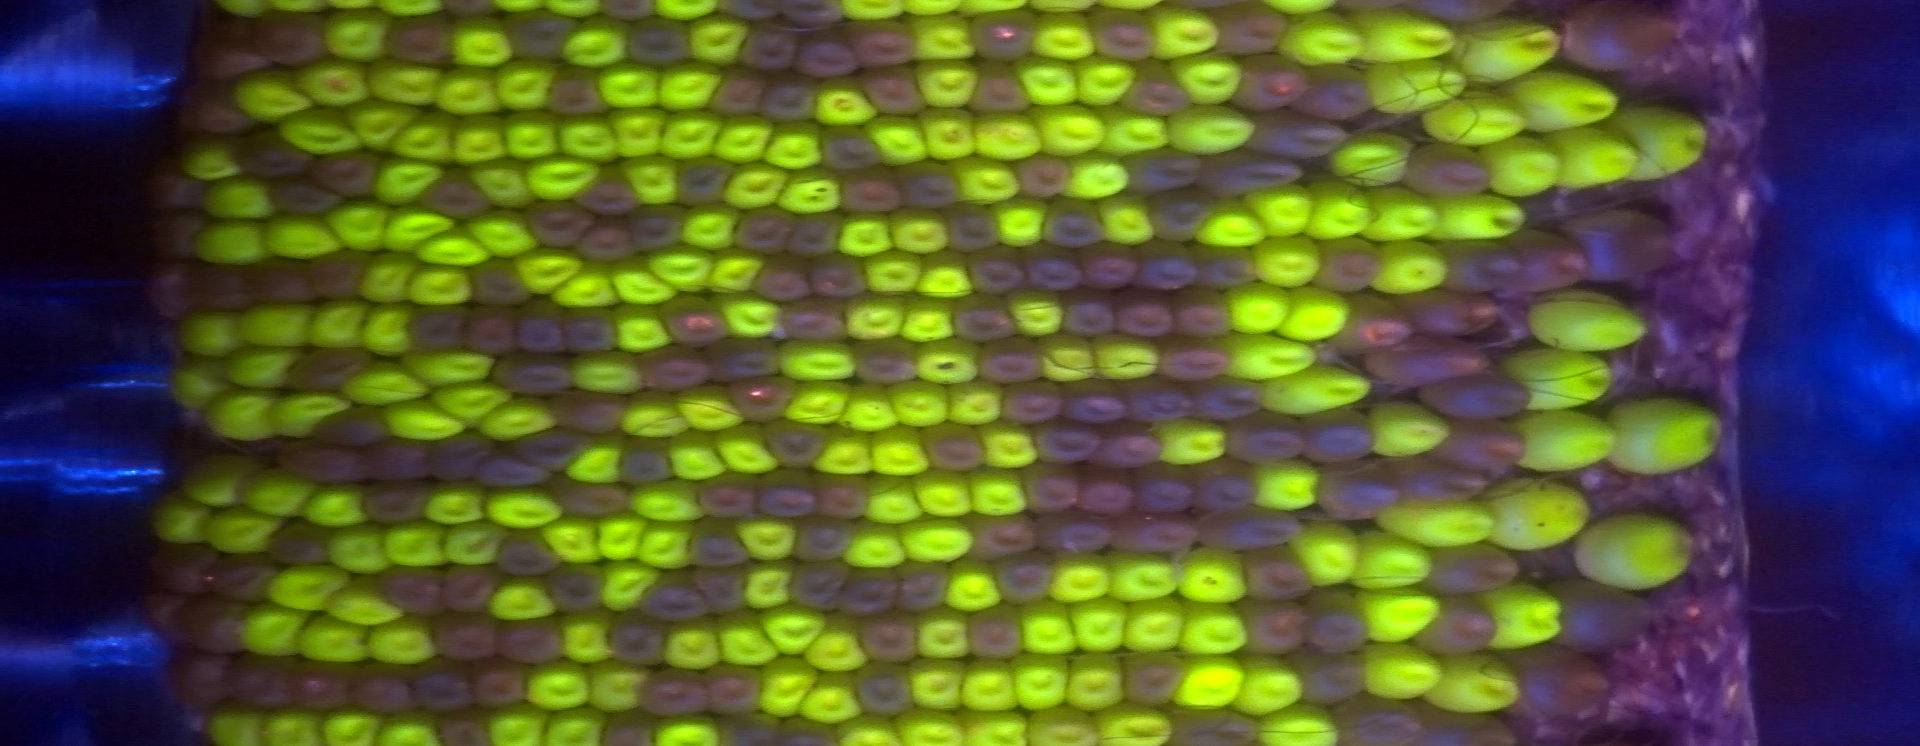fluorescent: (1564, 505, 1703, 599), (1602, 390, 1730, 483), (1523, 282, 1656, 363), (1476, 475, 1598, 559), (1451, 10, 1569, 89), (1501, 343, 1622, 420), (1506, 64, 1631, 138), (1611, 102, 1716, 190), (1510, 402, 1626, 479), (1417, 646, 1529, 719), (1476, 573, 1572, 657), (1419, 78, 1531, 151), (1543, 122, 1647, 200), (1375, 491, 1506, 552), (1255, 360, 1382, 423), (1348, 4, 1462, 73), (1365, 48, 1473, 121), (1422, 186, 1536, 251), (1162, 97, 1266, 167), (1349, 579, 1446, 653), (1342, 527, 1444, 597), (1278, 5, 1378, 76), (1476, 135, 1570, 208), (1220, 650, 1315, 723), (1349, 639, 1452, 706), (1283, 519, 1370, 597), (225, 62, 324, 129), (1364, 398, 1460, 465), (1325, 127, 1420, 194), (1296, 174, 1380, 249), (1169, 592, 1258, 663), (1218, 328, 1329, 385), (287, 51, 386, 114), (1354, 183, 1445, 250), (1166, 45, 1253, 115), (1138, 2, 1231, 67), (1367, 234, 1460, 299), (1265, 282, 1358, 347), (1239, 451, 1327, 518), (553, 10, 644, 75), (182, 213, 280, 273), (1171, 541, 1256, 610), (360, 54, 456, 115), (227, 597, 312, 664), (744, 652, 825, 723), (174, 451, 264, 513), (257, 559, 358, 615), (164, 347, 245, 416), (336, 356, 435, 413), (203, 383, 288, 450), (271, 107, 370, 163), (316, 2, 400, 69), (230, 296, 323, 356), (1022, 100, 1116, 160), (1060, 590, 1139, 661), (1091, 100, 1177, 165), (709, 416, 792, 483), (901, 4, 984, 70), (1164, 650, 1253, 713), (1240, 176, 1322, 243), (771, 332, 863, 391), (522, 148, 610, 209), (708, 608, 786, 676), (1118, 593, 1196, 661), (320, 571, 409, 631), (1053, 147, 1139, 209), (398, 342, 504, 392), (577, 655, 658, 722), (757, 598, 838, 664), (358, 615, 448, 674), (1247, 229, 1329, 294), (340, 96, 429, 156), (291, 611, 376, 674), (382, 102, 462, 168), (258, 209, 351, 266), (705, 285, 792, 345), (1141, 414, 1232, 472), (613, 382, 697, 445), (231, 465, 320, 524), (624, 474, 716, 530), (463, 151, 542, 216), (669, 377, 749, 441), (1063, 51, 1144, 115), (216, 341, 309, 396), (480, 570, 567, 628), (964, 107, 1051, 165), (911, 102, 988, 168), (651, 100, 729, 167), (1002, 649, 1079, 715), (680, 9, 758, 73), (894, 512, 982, 570), (169, 304, 253, 364), (944, 152, 1029, 212), (653, 55, 732, 119), (200, 503, 291, 559), (1220, 278, 1300, 341), (1038, 546, 1119, 609), (478, 485, 576, 537), (478, 392, 564, 450), (833, 514, 916, 575), (369, 149, 452, 209), (545, 251, 624, 314), (563, 344, 651, 401), (460, 205, 545, 263), (902, 653, 975, 722), (429, 379, 520, 432), (637, 241, 722, 299), (425, 62, 511, 120), (321, 194, 397, 258), (520, 657, 602, 717), (1098, 548, 1180, 608), (863, 421, 940, 485), (600, 102, 677, 165), (879, 377, 962, 436), (910, 53, 988, 115), (1022, 5, 1102, 66), (260, 390, 359, 439), (716, 156, 797, 216), (1007, 53, 1087, 113), (953, 653, 1029, 717), (508, 243, 594, 299), (1189, 197, 1275, 254), (996, 284, 1074, 345), (380, 396, 470, 448), (793, 668, 869, 730), (731, 508, 807, 571), (409, 224, 501, 276), (377, 202, 463, 257), (807, 72, 884, 134), (800, 609, 869, 676), (1060, 647, 1131, 713), (613, 148, 686, 213), (144, 488, 218, 551), (491, 54, 564, 118), (656, 614, 731, 676), (831, 375, 906, 437), (1084, 330, 1168, 385), (860, 111, 936, 173), (444, 11, 520, 72), (771, 162, 849, 222), (707, 107, 784, 167), (197, 171, 283, 225), (302, 294, 376, 356), (377, 517, 457, 575), (1085, 698, 1180, 746), (560, 428, 636, 488), (906, 465, 982, 526), (351, 249, 427, 309), (553, 604, 622, 670), (659, 425, 731, 488), (605, 296, 677, 359), (807, 419, 879, 481), (1090, 190, 1164, 250), (673, 197, 749, 256), (880, 202, 956, 261), (1013, 597, 1081, 661), (606, 254, 683, 311), (400, 258, 482, 312), (781, 376, 860, 432), (171, 127, 250, 184), (1031, 330, 1104, 390), (496, 107, 571, 165), (594, 58, 669, 116), (318, 523, 398, 578), (438, 517, 514, 575), (829, 206, 905, 263), (939, 554, 1008, 617), (759, 113, 831, 173), (442, 107, 514, 167), (984, 194, 1057, 254), (857, 470, 931, 529), (738, 554, 807, 616), (838, 287, 913, 343), (1253, 699, 1344, 746), (629, 518, 702, 577), (700, 243, 774, 300), (909, 601, 975, 665), (1018, 701, 1109, 746), (940, 375, 1013, 432), (551, 111, 624, 167), (948, 702, 1040, 746), (596, 556, 665, 615), (911, 246, 981, 304), (359, 296, 421, 360), (911, 333, 984, 387), (419, 477, 493, 529), (857, 246, 929, 300), (198, 695, 273, 746), (536, 514, 606, 568), (298, 484, 375, 532), (891, 296, 961, 349), (591, 510, 656, 565), (889, 704, 975, 746), (252, 702, 329, 746), (484, 698, 553, 746), (536, 703, 611, 746), (369, 706, 446, 746), (313, 703, 384, 746), (828, 710, 909, 746), (648, 710, 724, 746)
nonfluorescent: (1538, 573, 1662, 664), (1558, 1, 1686, 80), (1566, 203, 1679, 287), (1504, 643, 1619, 722), (1364, 331, 1500, 392), (1420, 367, 1542, 432), (1238, 105, 1359, 167), (1380, 448, 1494, 512), (1411, 539, 1524, 601), (1408, 590, 1506, 661), (1329, 285, 1423, 359), (1506, 224, 1594, 303), (1282, 643, 1378, 715), (1430, 410, 1533, 477), (1401, 137, 1501, 205), (1434, 233, 1531, 303), (1313, 456, 1409, 526), (1195, 145, 1313, 201), (269, 432, 380, 492), (1292, 581, 1378, 658), (1229, 592, 1316, 668), (170, 76, 266, 143), (158, 641, 242, 717), (216, 648, 309, 717), (1226, 51, 1319, 120), (1114, 138, 1212, 203), (1217, 407, 1316, 470), (1294, 405, 1387, 473), (1199, 500, 1309, 556), (140, 534, 235, 599), (278, 338, 383, 397), (498, 5, 595, 69), (249, 6, 337, 76), (180, 27, 278, 89), (1102, 505, 1206, 563), (1081, 1, 1168, 71), (1236, 543, 1322, 612), (629, 661, 722, 726), (490, 609, 578, 676), (1296, 60, 1382, 127), (229, 125, 324, 186), (964, 2, 1046, 73), (339, 657, 429, 722), (632, 563, 721, 628), (1185, 452, 1270, 521), (1406, 285, 1507, 342), (1116, 53, 1199, 121), (413, 162, 500, 227), (369, 562, 457, 626), (1109, 647, 1198, 710), (958, 55, 1041, 122), (167, 593, 251, 659), (651, 292, 744, 352), (135, 149, 216, 218), (838, 12, 924, 76), (1142, 183, 1224, 250), (1125, 233, 1210, 298), (1025, 507, 1124, 562), (518, 195, 605, 257), (1207, 1, 1296, 62), (239, 252, 326, 314), (138, 257, 216, 326), (1149, 330, 1240, 387), (918, 416, 998, 483), (1179, 371, 1272, 428), (380, 11, 463, 73), (204, 549, 288, 611), (944, 288, 1027, 350), (951, 510, 1046, 565), (508, 420, 600, 477), (546, 472, 638, 528), (758, 412, 838, 477), (853, 59, 933, 124), (420, 428, 506, 488), (1025, 412, 1111, 472), (849, 657, 924, 724), (700, 334, 792, 390), (724, 369, 804, 431), (602, 605, 675, 675), (482, 350, 580, 402), (1331, 690, 1420, 746), (355, 473, 437, 534), (462, 650, 538, 717), (730, 13, 807, 78), (1125, 458, 1204, 522), (633, 342, 721, 398), (960, 597, 1030, 668), (133, 587, 202, 659), (1117, 372, 1202, 430), (355, 432, 444, 488), (971, 334, 1053, 394), (301, 244, 378, 307), (682, 511, 759, 575), (300, 146, 393, 198), (284, 654, 362, 717), (429, 606, 507, 669), (830, 560, 909, 622), (849, 332, 927, 394), (572, 162, 650, 224), (534, 62, 617, 121), (1310, 234, 1389, 296), (304, 399, 394, 453), (621, 10, 700, 71), (489, 524, 569, 584), (751, 464, 827, 528), (1164, 282, 1240, 345), (1411, 702, 1520, 746), (742, 249, 820, 310), (831, 163, 910, 224), (1054, 375, 1139, 431), (1089, 416, 1173, 473), (547, 386, 636, 440), (699, 657, 776, 718), (782, 556, 860, 617), (891, 158, 969, 219), (182, 258, 264, 316), (688, 465, 767, 526), (1067, 461, 1145, 521), (887, 555, 958, 621), (1162, 702, 1269, 746), (1035, 196, 1118, 252), (669, 148, 741, 213), (464, 451, 562, 499), (804, 465, 880, 527), (786, 510, 863, 570), (1184, 240, 1266, 296), (621, 198, 693, 262), (786, 23, 866, 81), (1014, 240, 1093, 298), (405, 653, 480, 714), (987, 548, 1062, 609), (684, 561, 760, 621), (540, 560, 618, 617), (962, 241, 1036, 303), (698, 62, 773, 122), (264, 171, 351, 223), (464, 254, 540, 312), (800, 247, 876, 306), (1074, 238, 1150, 296), (508, 295, 574, 363), (436, 559, 504, 624), (855, 605, 924, 669), (143, 205, 216, 265), (754, 69, 827, 129), (1108, 285, 1180, 345), (263, 514, 337, 573), (780, 205, 853, 263), (814, 120, 890, 176), (778, 292, 856, 345), (398, 300, 473, 356), (569, 213, 644, 269), (459, 301, 528, 363), (612, 432, 682, 492), (1013, 458, 1082, 518), (994, 375, 1070, 429), (556, 301, 628, 358), (729, 201, 796, 261), (1056, 285, 1124, 344), (938, 197, 1002, 260), (1010, 152, 1079, 205), (430, 701, 503, 746), (591, 703, 667, 746), (191, 1, 260, 47), (711, 709, 786, 746), (778, 1, 853, 33)
